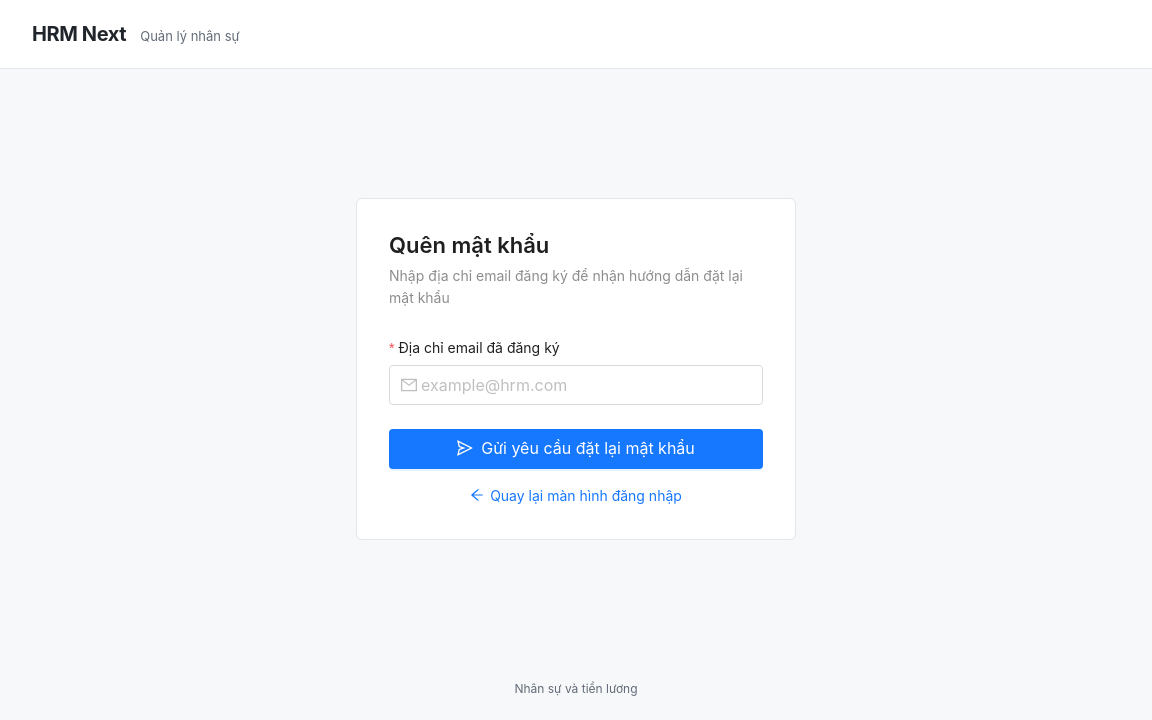
Test: Vietnamese Forms, Accessibility, and Security Sanitization Tests › forgot password displays real deliveryMode and DOES NOT pretend email was sent when unconfigured
Type "test@hrm.com" into the field labelled "Địa chỉ email đã đăng ký" at (586, 385), box [421,373,751,397]
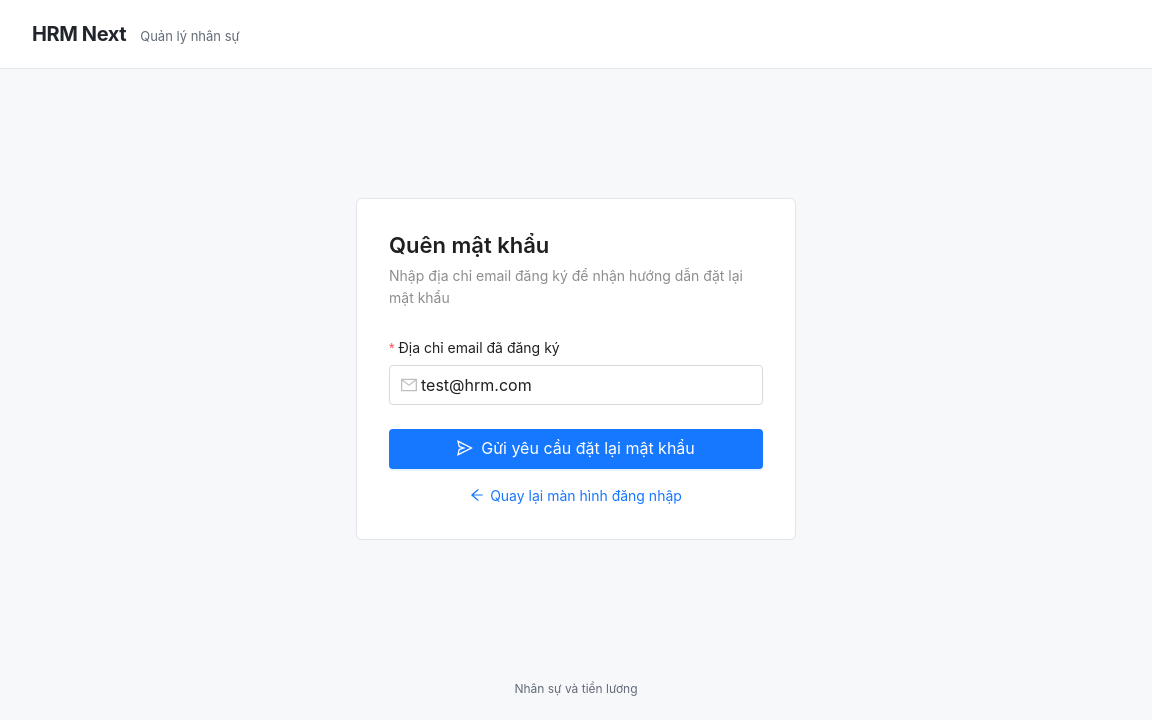
Submit the form labelled "Địa chỉ email đã đăng ký", box [389,337,763,507]
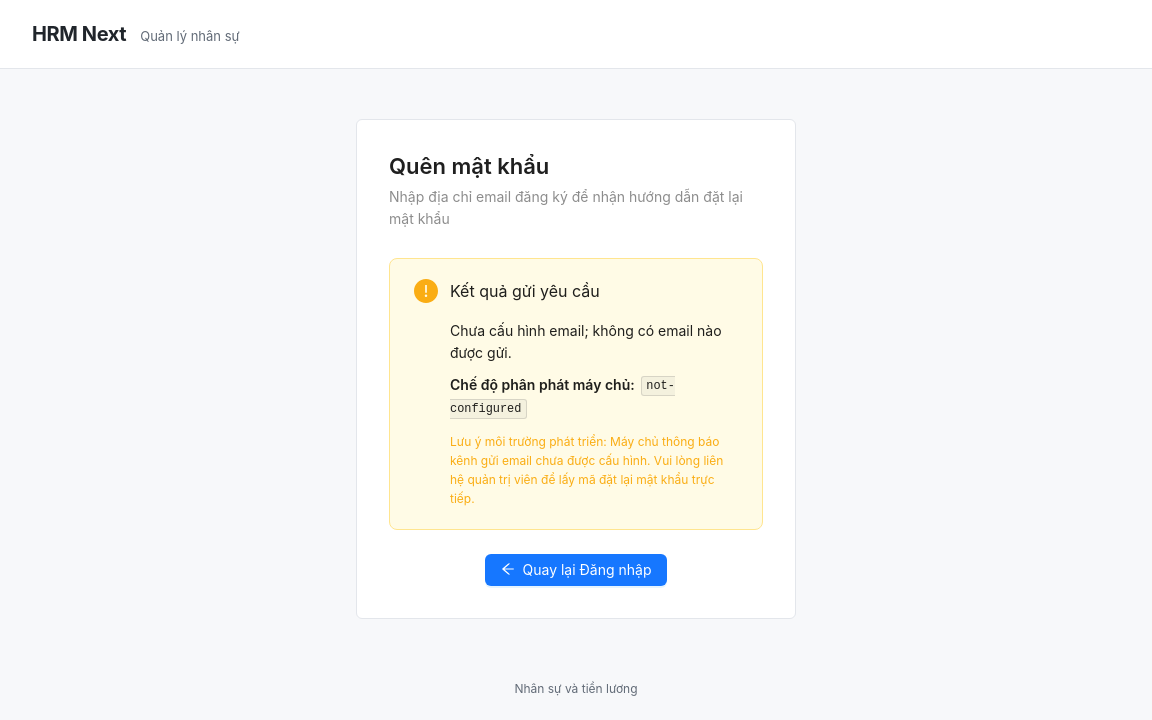
Expected: the text "Chưa cấu hình email; không có email nào được gửi." is shown, [450,320,738,364]
Expected: the text "not-configured" is shown, [450,376,675,419]
Expected: the text "kênh gửi email chưa được cấu hình" is shown, [450,434,723,506]
